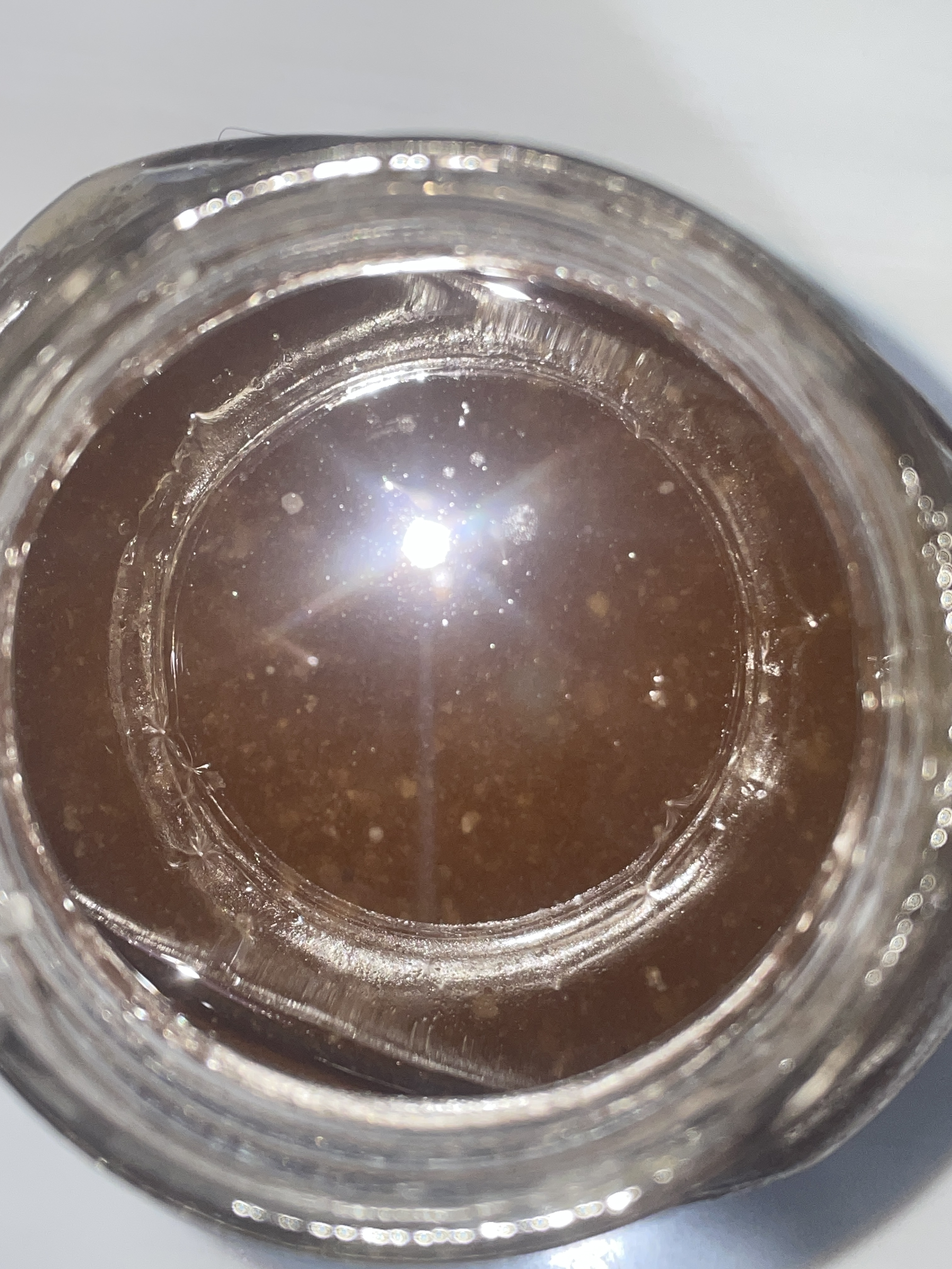non-reusable: (19, 268, 856, 1098)
